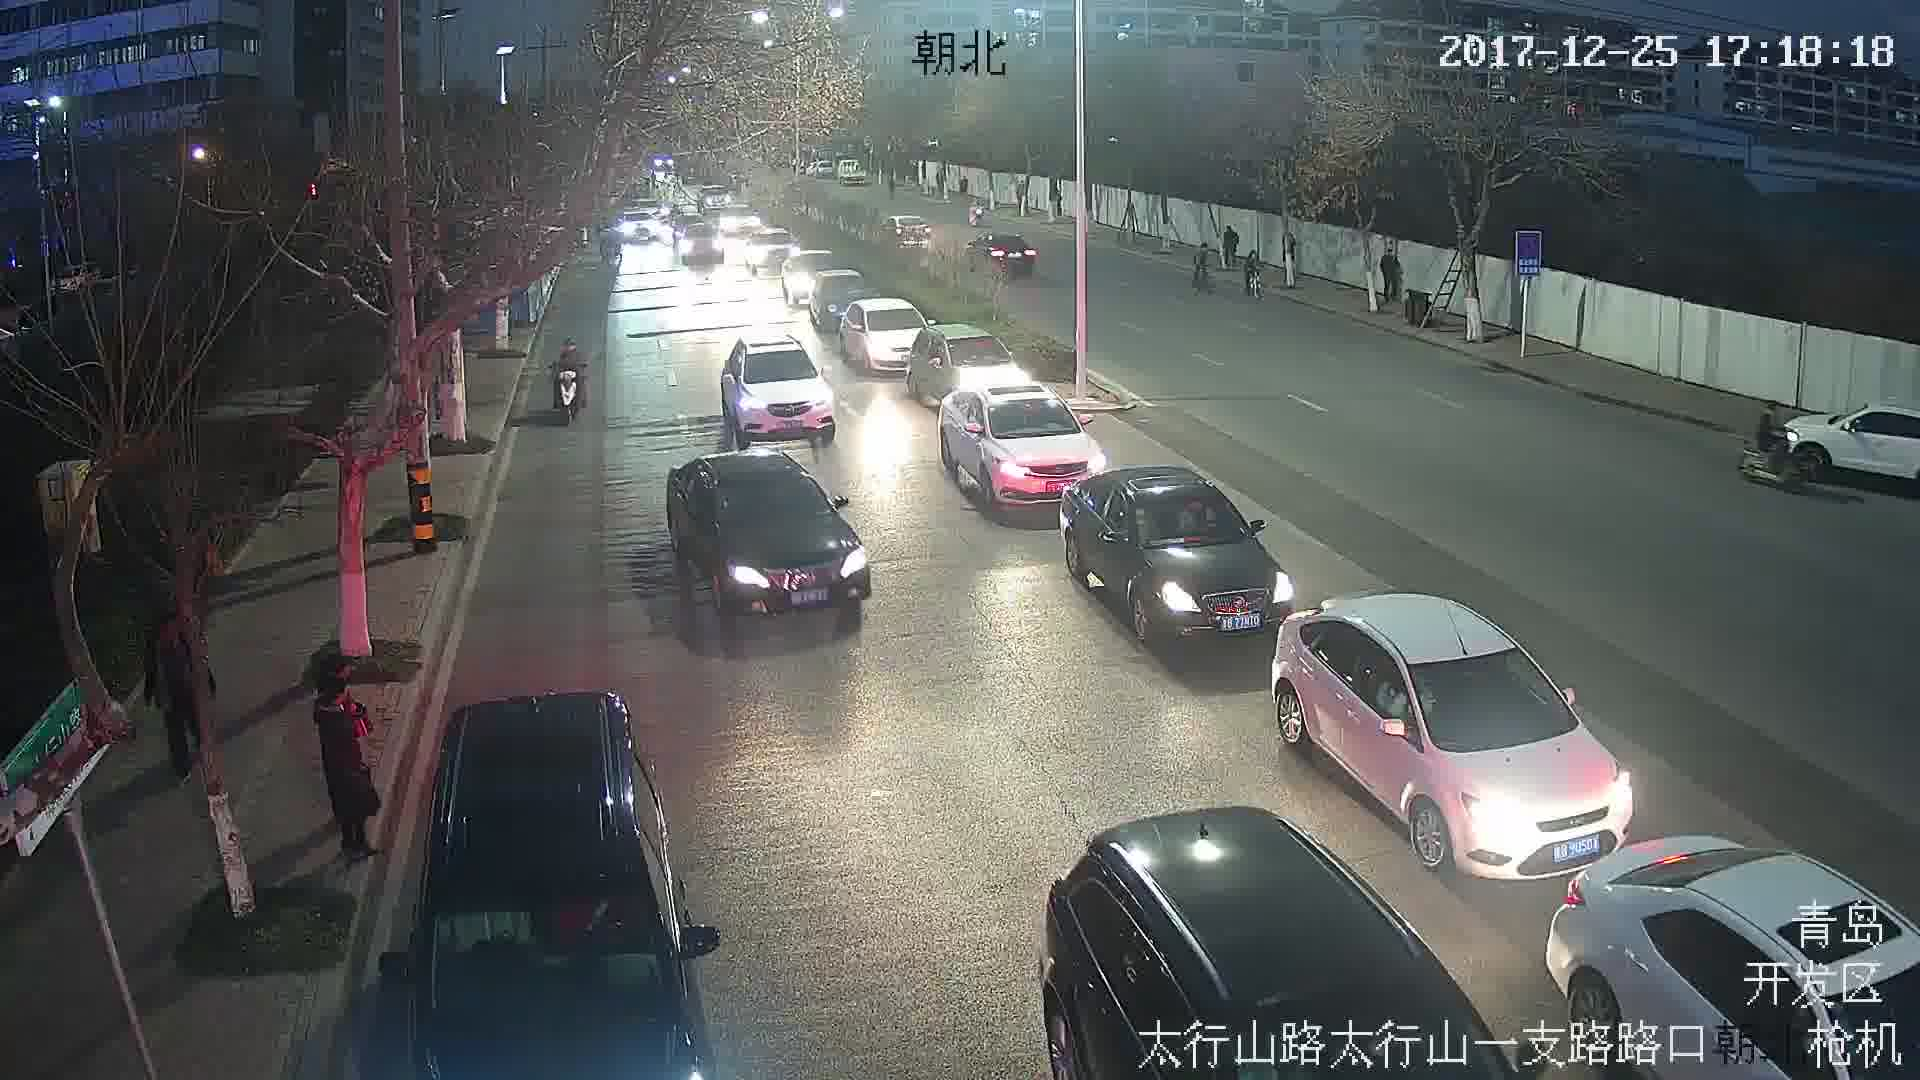car: (1278, 595, 1632, 874), (1070, 467, 1293, 639), (671, 450, 873, 609), (942, 385, 1105, 510), (725, 337, 837, 446), (973, 235, 1037, 278)
person: (309, 673, 389, 863), (1377, 248, 1409, 307), (559, 341, 589, 394)
